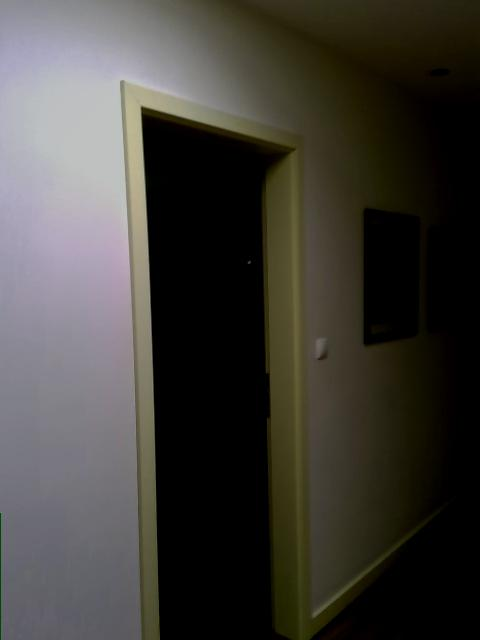open_door: (117, 78, 310, 639)
